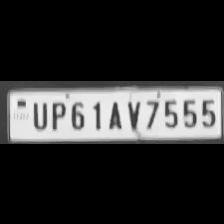1: (88, 97, 104, 129)
5: (198, 95, 218, 127), (160, 96, 178, 128), (180, 95, 198, 127)
6: (66, 97, 86, 129)
7: (141, 96, 159, 130)
A: (104, 96, 124, 130)
P: (47, 98, 66, 130)
U: (28, 98, 48, 130)
V: (123, 96, 141, 130)
